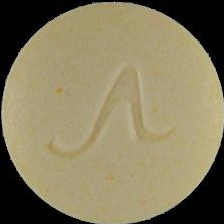0603-3162: (0, 0, 224, 224)
